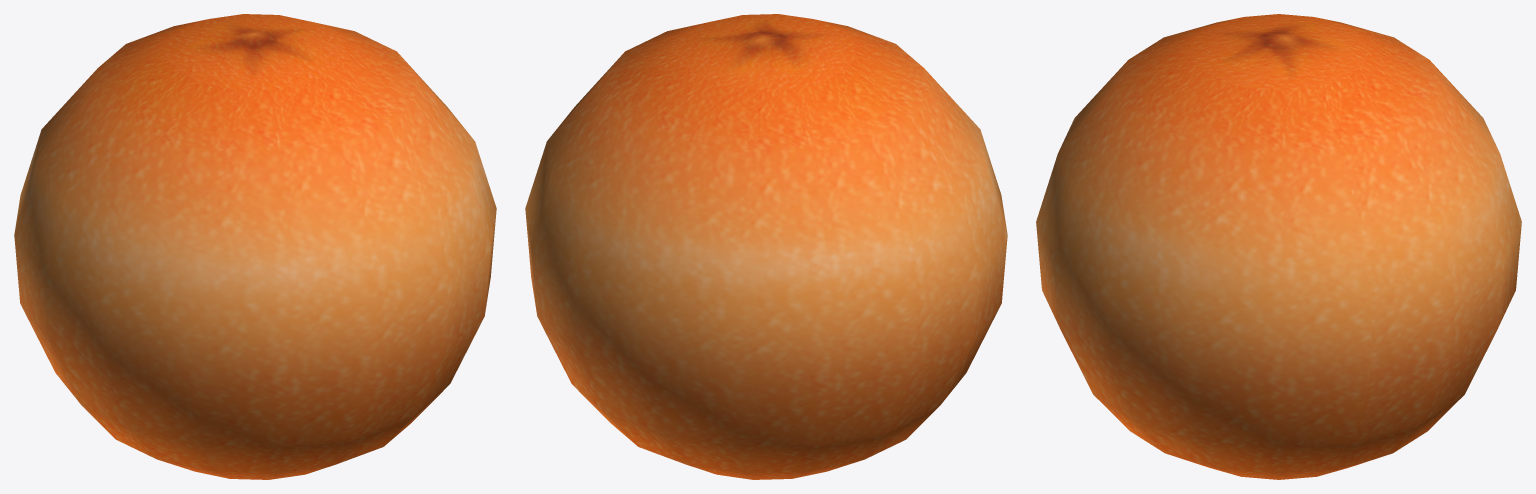
Rendered from Grapefruit_Whole.fbx.
3 views of the same model, side by side, from view 1: azimuth 30°, elevation 25°; view 2: azimuth 150°, elevation 25°; view 3: azimuth 270°, elevation 25° (orthographic).
Parts seen in each view (by area): view 1: Grapefruit_Whole; view 2: Grapefruit_Whole; view 3: Grapefruit_Whole.
Boxes of the visible parts, <box> form: Grapefruit_Whole: <box>14,14,496,479</box>; Grapefruit_Whole: <box>525,14,1007,479</box>; Grapefruit_Whole: <box>1036,14,1521,479</box>.
Size of the model in its own units: 35.66 by 34.07 by 35.66.
Materials: 1 (1 with a texture image).
